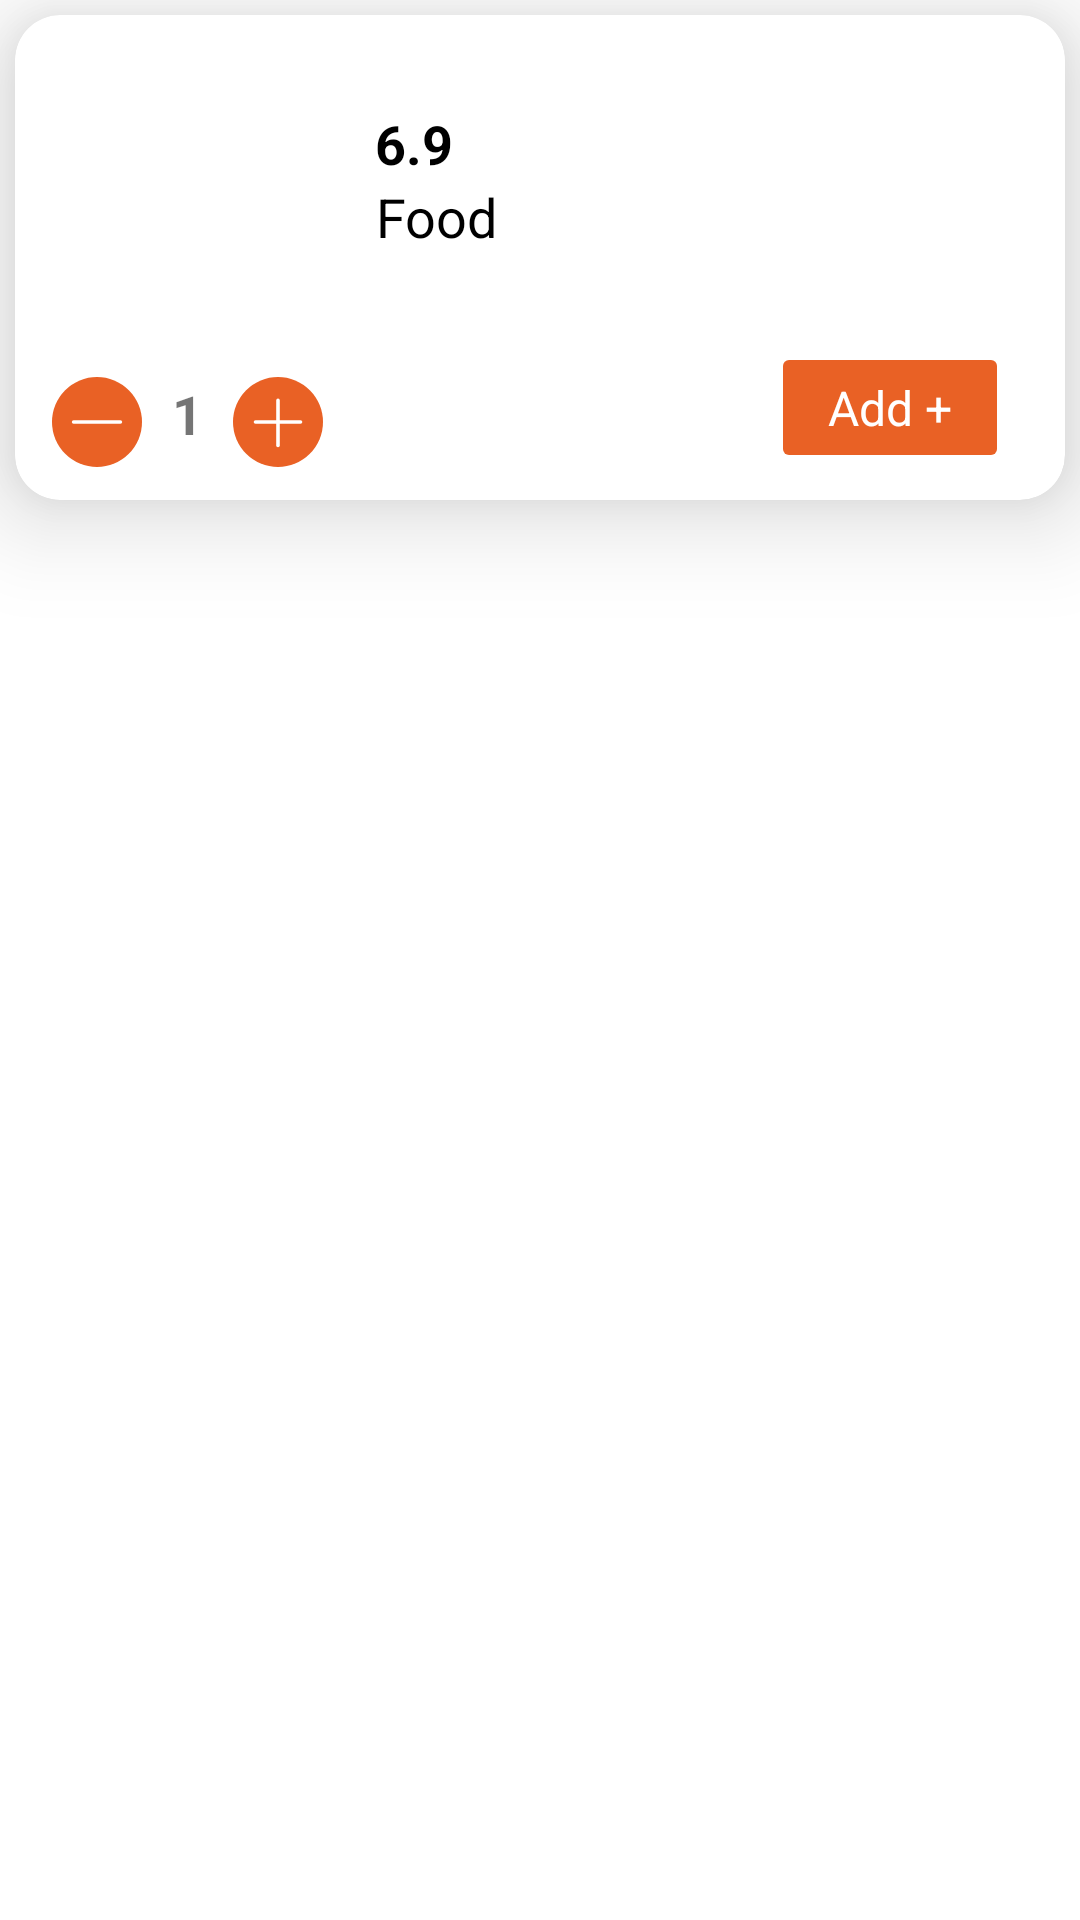

Screen size 1080w x 1920h. Icon name, then its box in pixels as {"left": x1, "top": y1, "right": x2, "bottom": y2}:
minus: {"left": 52, "top": 377, "right": 142, "bottom": 467}
plus: {"left": 233, "top": 377, "right": 323, "bottom": 467}
